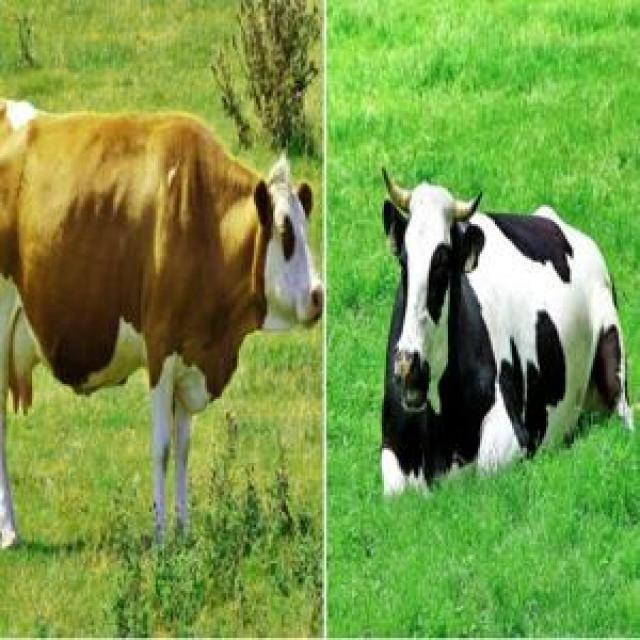cow: (0, 102, 322, 547), (382, 172, 632, 494)
